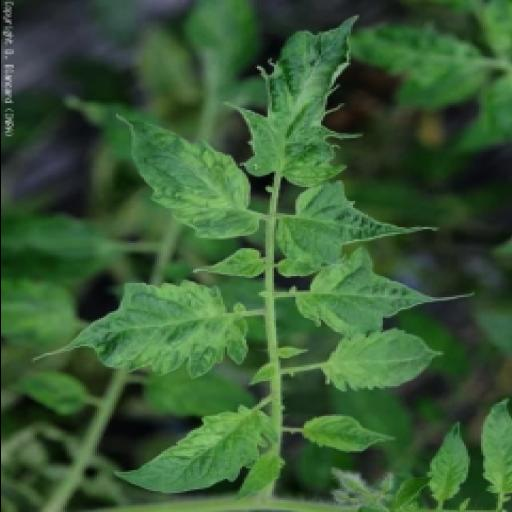disease_tomato: (226, 16, 360, 188), (104, 114, 264, 242), (76, 278, 252, 382), (111, 403, 277, 496)
